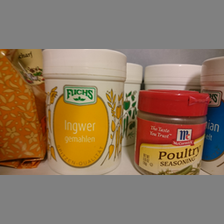spices: (43, 49, 126, 174), (134, 89, 210, 175)
